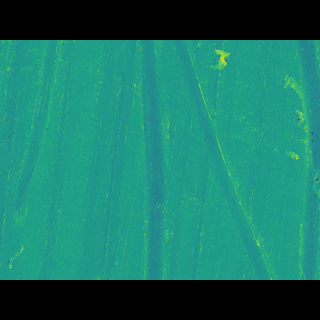Loch: (170, 70, 279, 250), (9, 69, 63, 209), (137, 70, 167, 250), (301, 68, 319, 250)
